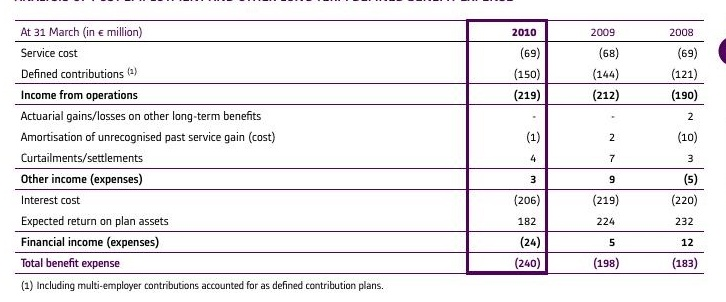table: (0, 0, 726, 302)
